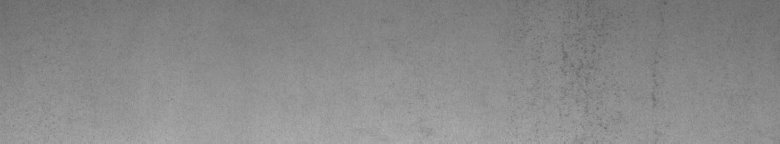ib: (558, 16, 656, 130)
